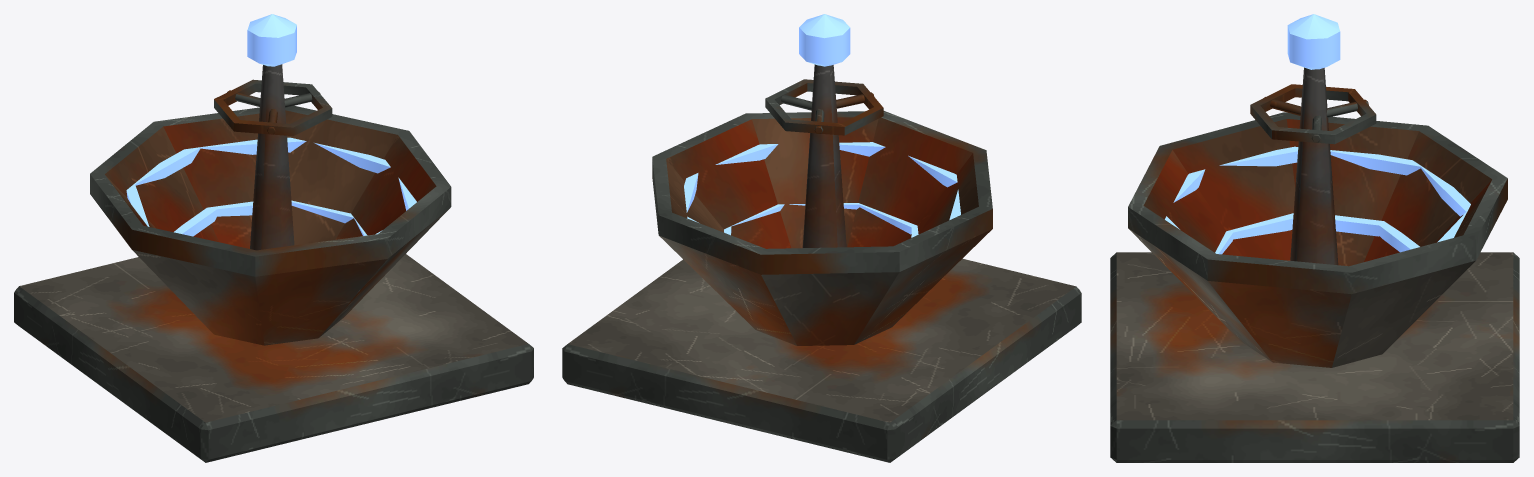
The model's file is R4X_ScannerPulse_LOD1.glb.
3 views of the same model, side by side, from view 1: azimuth 30°, elevation 25°; view 2: azimuth 150°, elevation 25°; view 3: azimuth 270°, elevation 25° (orthographic). The views are drawn at different scales.
Visible parts, largest first — view 1: R4X_ScannerPulse_LOD1; view 2: R4X_ScannerPulse_LOD1; view 3: R4X_ScannerPulse_LOD1.
Part boxes in pixels (left/top/right/bottom): R4X_ScannerPulse_LOD1: left=14, top=14, right=533, bottom=462; R4X_ScannerPulse_LOD1: left=562, top=14, right=1081, bottom=462; R4X_ScannerPulse_LOD1: left=1110, top=14, right=1519, bottom=462.
Size of the model in its own units: 0.52 by 0.51 by 0.52.
Materials: 5 (4 with a texture image).
